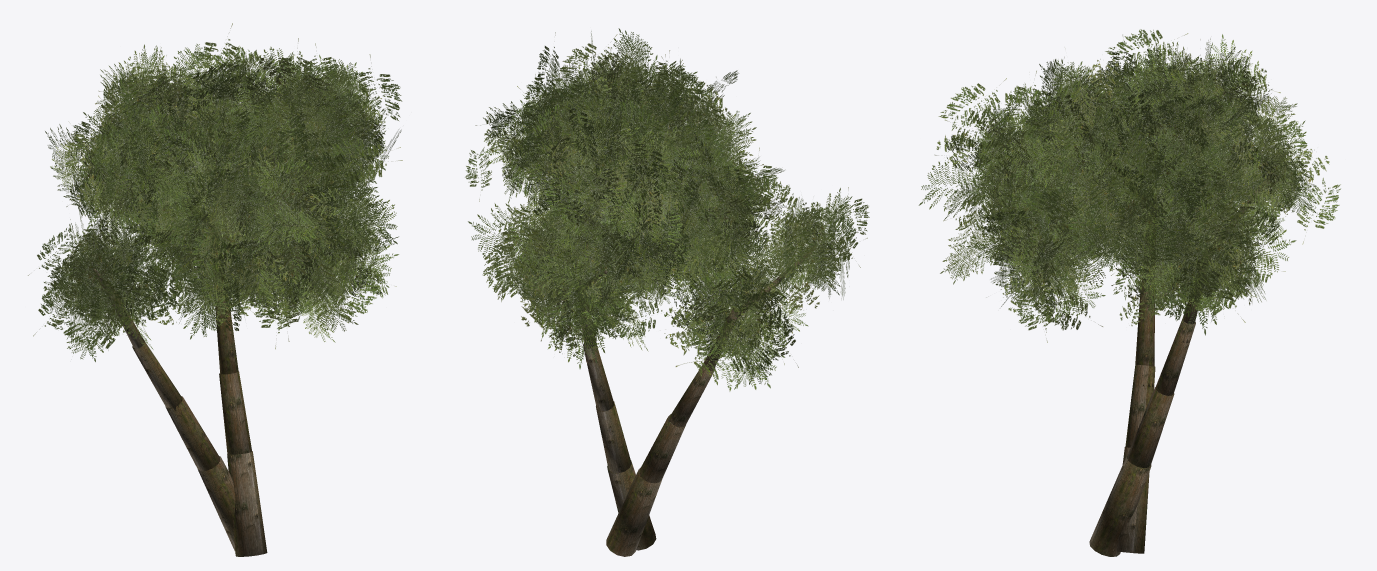
Rendered from tamarisk_1.glb.
The picture shows the model from 3 angles, left to right: view 1: azimuth 30°, elevation 25°; view 2: azimuth 150°, elevation 25°; view 3: azimuth 270°, elevation 25°; orthographic projection. The views are drawn at different scales.
Parts seen in each view (by area): view 1: tamarisk; view 2: tamarisk; view 3: tamarisk.
Boxes of the visible parts, x1,y1,x2,y2 form: tamarisk: (28, 23, 402, 556); tamarisk: (465, 28, 869, 556); tamarisk: (918, 29, 1340, 556).
Bounding box in the file's own units: 5.82 × 7.03 × 5.49.
Materials: 2 (2 with a texture image).
